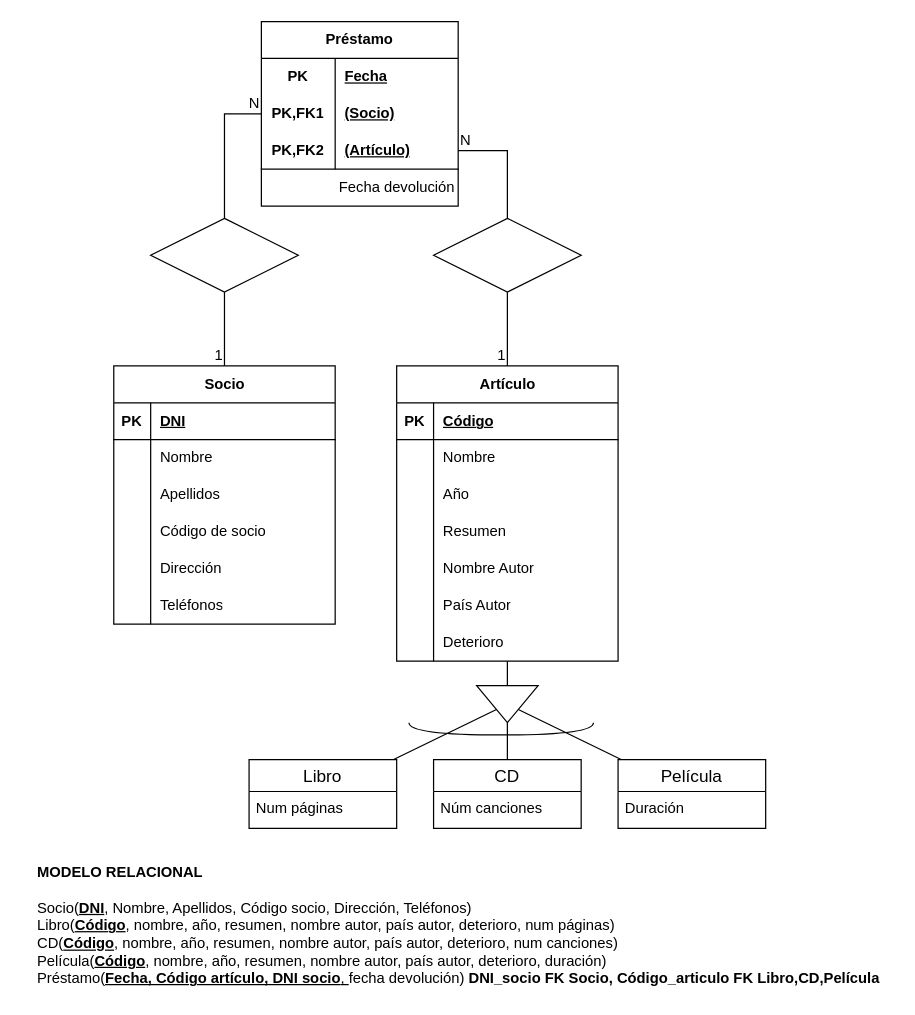
This 915x1015 diagram has some shape labels left out. Here are the shapes that lost their labels. From the top down, the centre of each, then its label:
pixel 223 254: Prestador
pixel 506 254: Prestado
